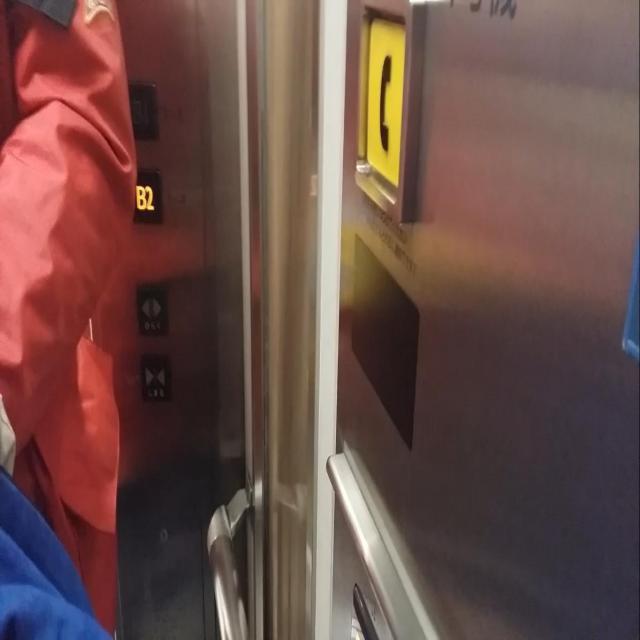B2: (126, 164, 165, 230)
blur: (124, 78, 160, 142)
call: (354, 0, 419, 224)
close: (138, 347, 172, 406)
open: (134, 283, 171, 339)
